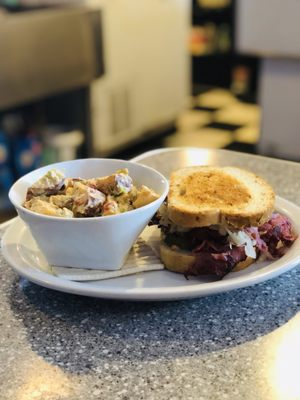soup: (157, 165, 298, 277)
sushi: (9, 157, 169, 271)
